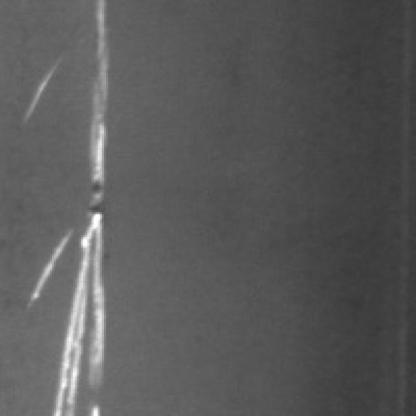scratches: (34, 0, 115, 410)
